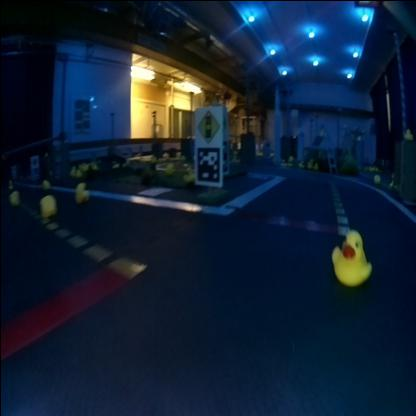Duckie: (330, 226, 370, 284), (38, 193, 54, 215), (74, 181, 88, 201), (7, 190, 18, 204), (182, 167, 192, 181), (403, 127, 411, 139), (164, 162, 172, 174)
QR code: (196, 144, 219, 182)
Signal sign: (194, 108, 218, 142)
